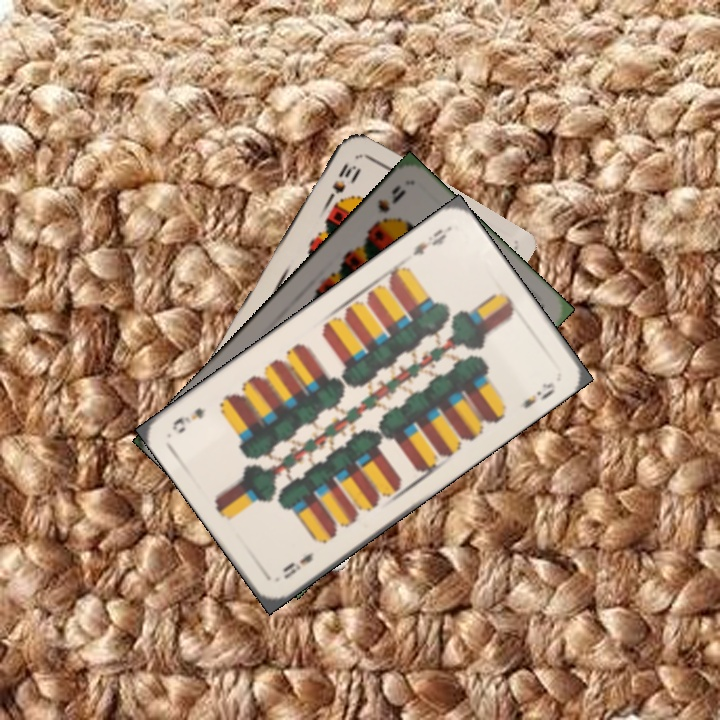E9: (408, 224, 452, 259), (278, 547, 317, 582)
S10: (322, 160, 361, 207)
S9: (366, 180, 409, 231)
